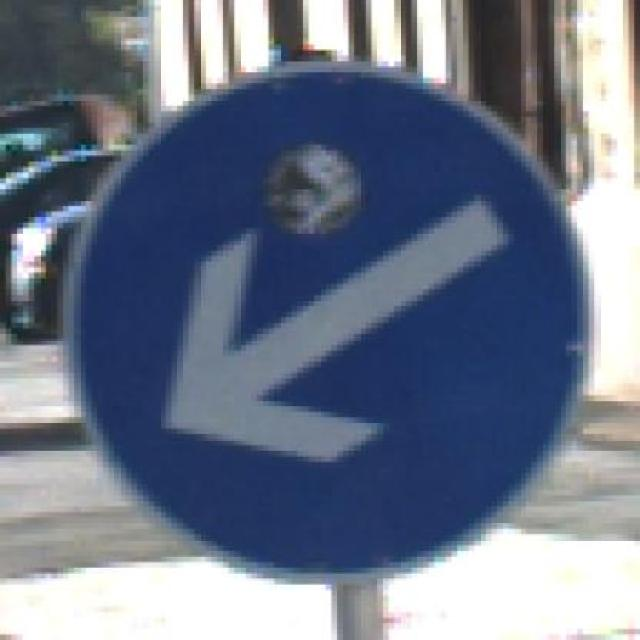Keep-Left: (51, 33, 606, 596)
